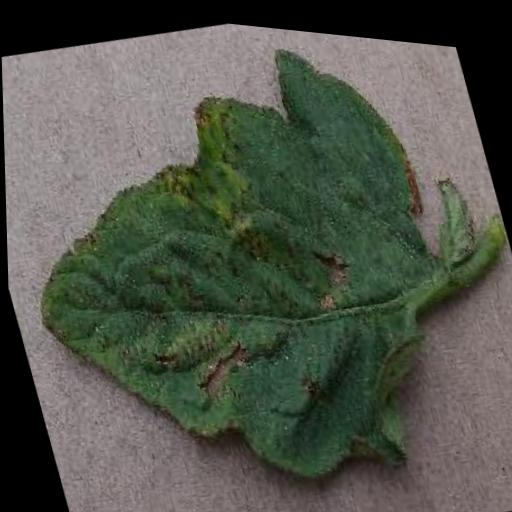Bacterial Spot: (0, 0, 502, 512)
